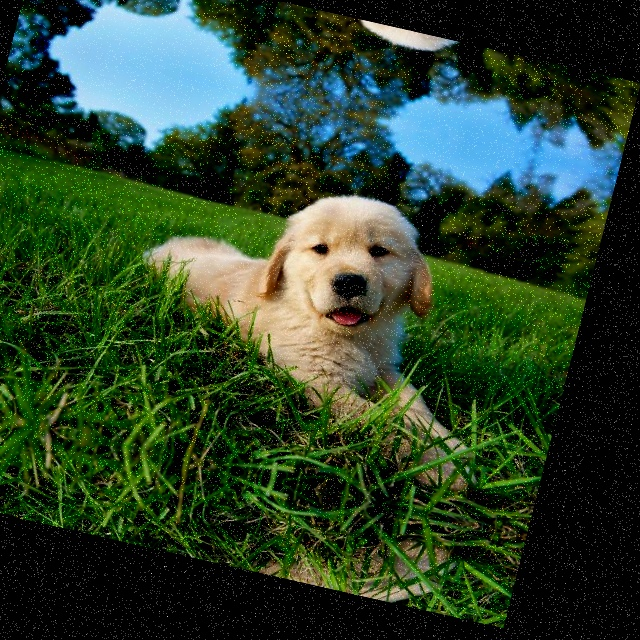dog: (94, 136, 551, 495), (63, 467, 468, 617), (194, 0, 590, 100)
